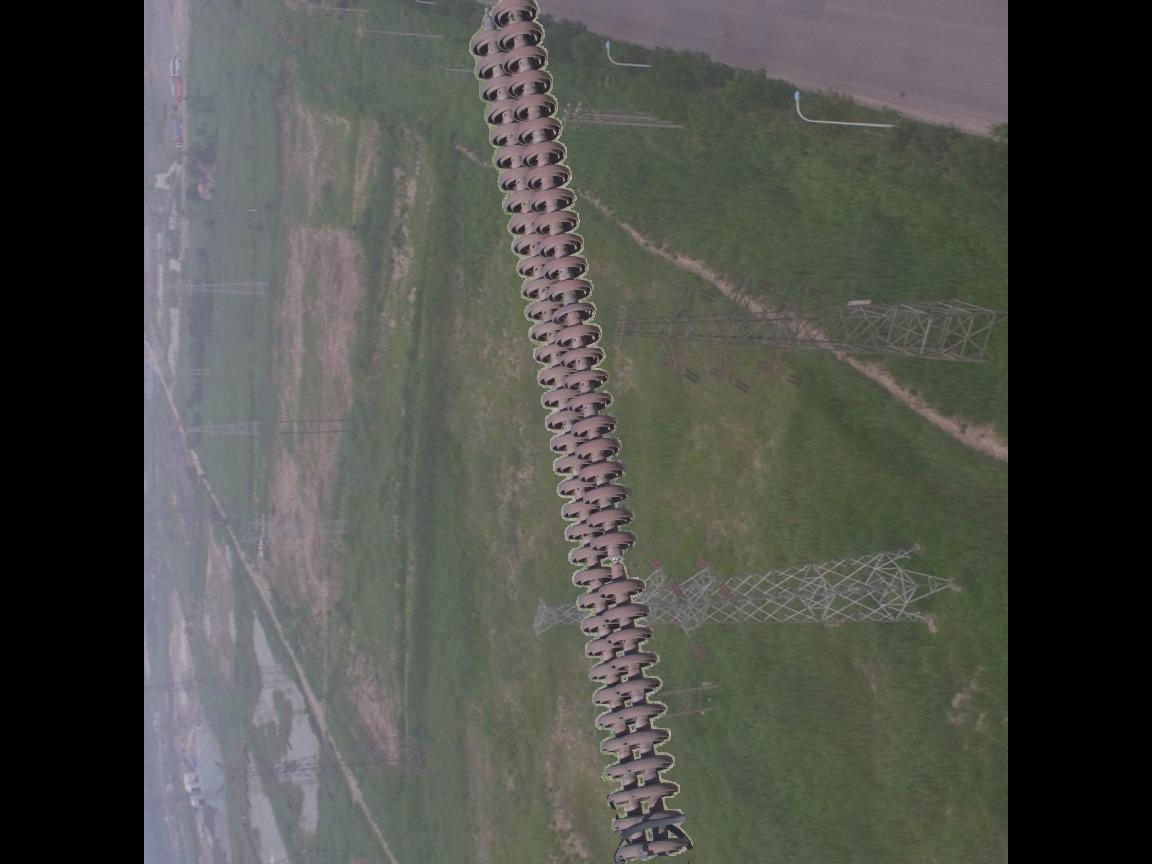insulator: (464, 1, 690, 863)
insulator_stringdrop: (589, 529, 649, 602)
